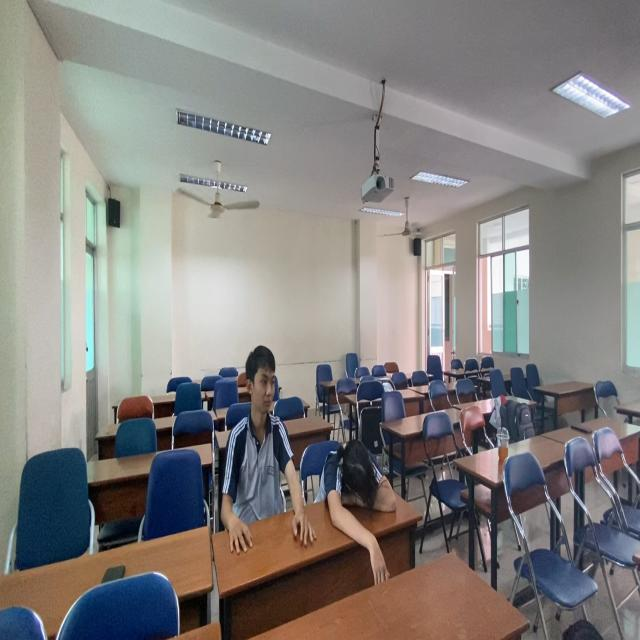sleep: (320, 437, 403, 558)
